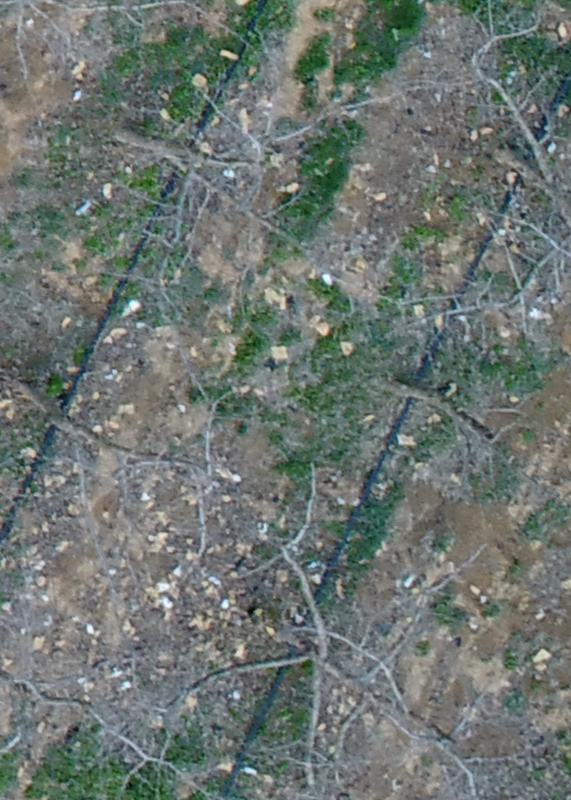apple: (170, 461, 527, 790), (56, 67, 412, 309), (10, 346, 265, 588), (10, 572, 252, 790)
